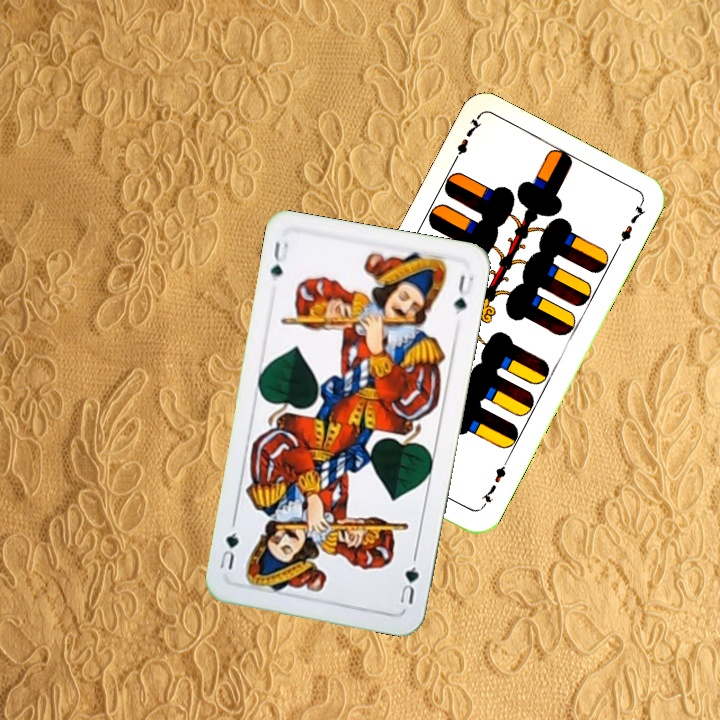E7: (447, 114, 484, 168), (476, 456, 511, 511)
GU: (266, 237, 291, 284), (396, 562, 422, 607)
